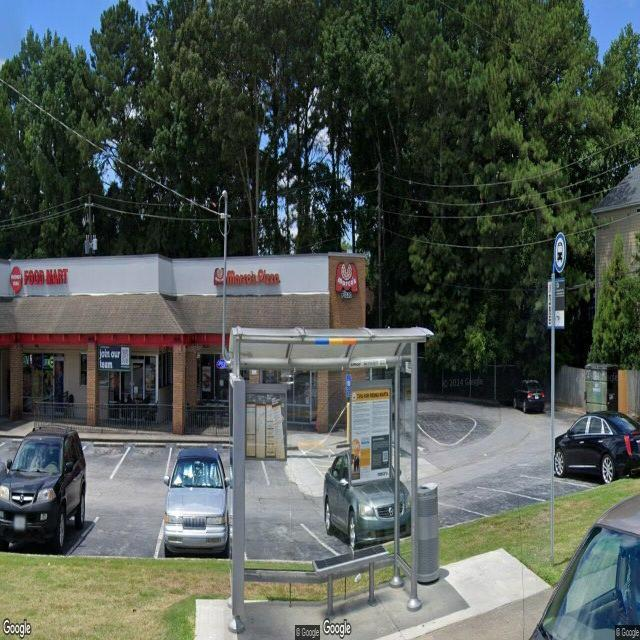seating: (313, 538, 391, 630)
shelter: (227, 325, 435, 639)
trash_can: (414, 482, 440, 586)
